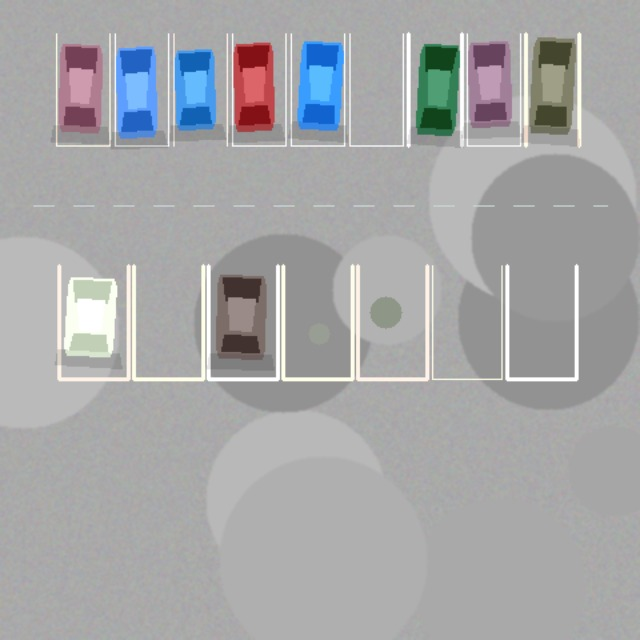space-empty: (133, 265, 203, 379), (357, 265, 427, 379), (283, 265, 352, 379), (432, 265, 501, 379), (507, 265, 576, 379), (349, 33, 403, 145)
space-occupied: (59, 265, 128, 379), (208, 265, 277, 379), (173, 33, 227, 145), (525, 33, 579, 145), (56, 33, 109, 145), (115, 33, 168, 145), (232, 33, 285, 145), (291, 33, 344, 145), (408, 33, 461, 145), (467, 33, 520, 145)
